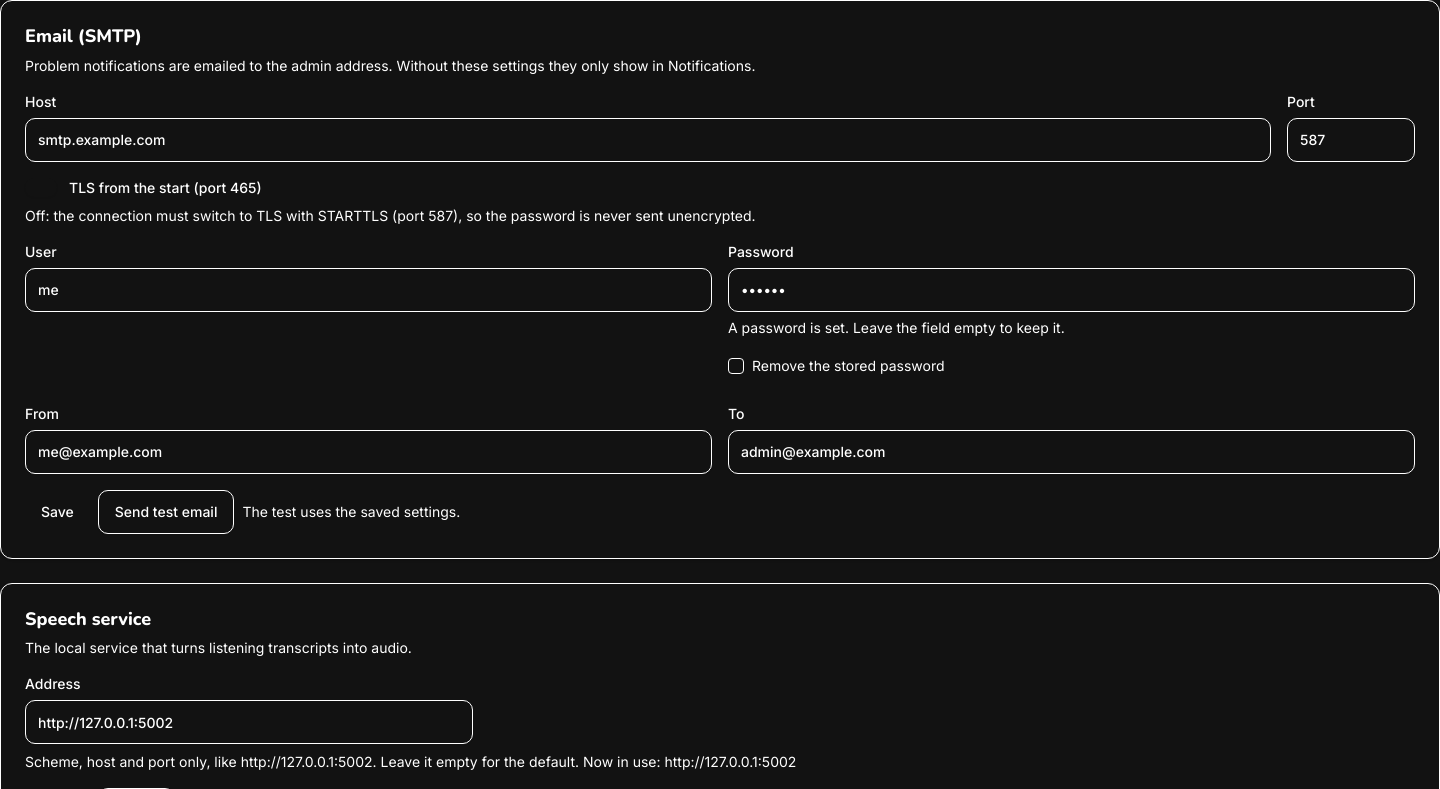
it: SystemSettingsAdmin › shows a stored password only as set, and an empty password field keeps it
Check: the password field labelled "Password" is empty, box [728,268,1415,312]
Check: the text "A password is set. Leave the field empty to keep it." is shown, box [728,318,1065,336]
In the field labelled "Host": (648, 140) [25,118,1271,162], type "mail.example.com"
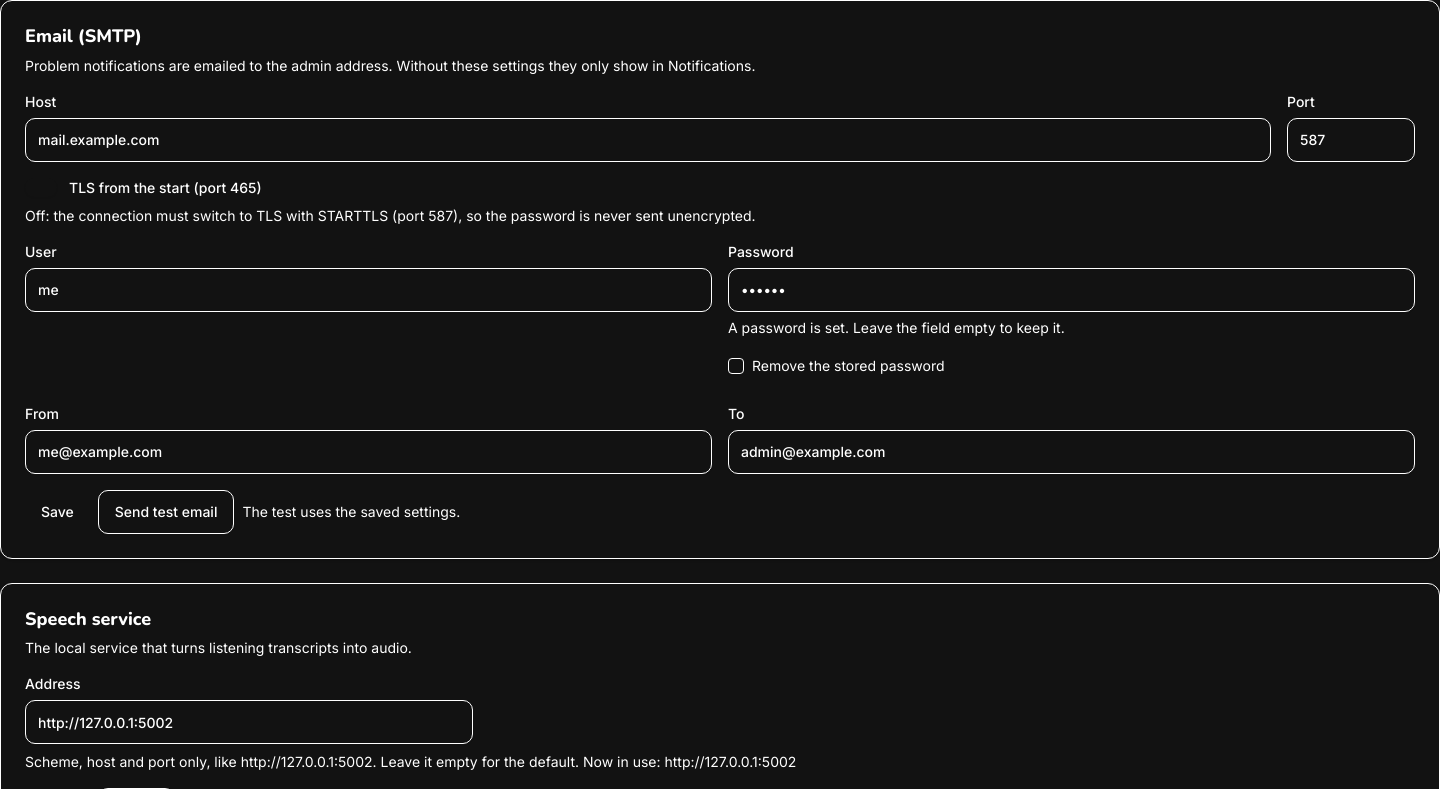
Click the button "Save" in the row of "The test uses the saved settings.": (57, 512) [25,490,90,534]
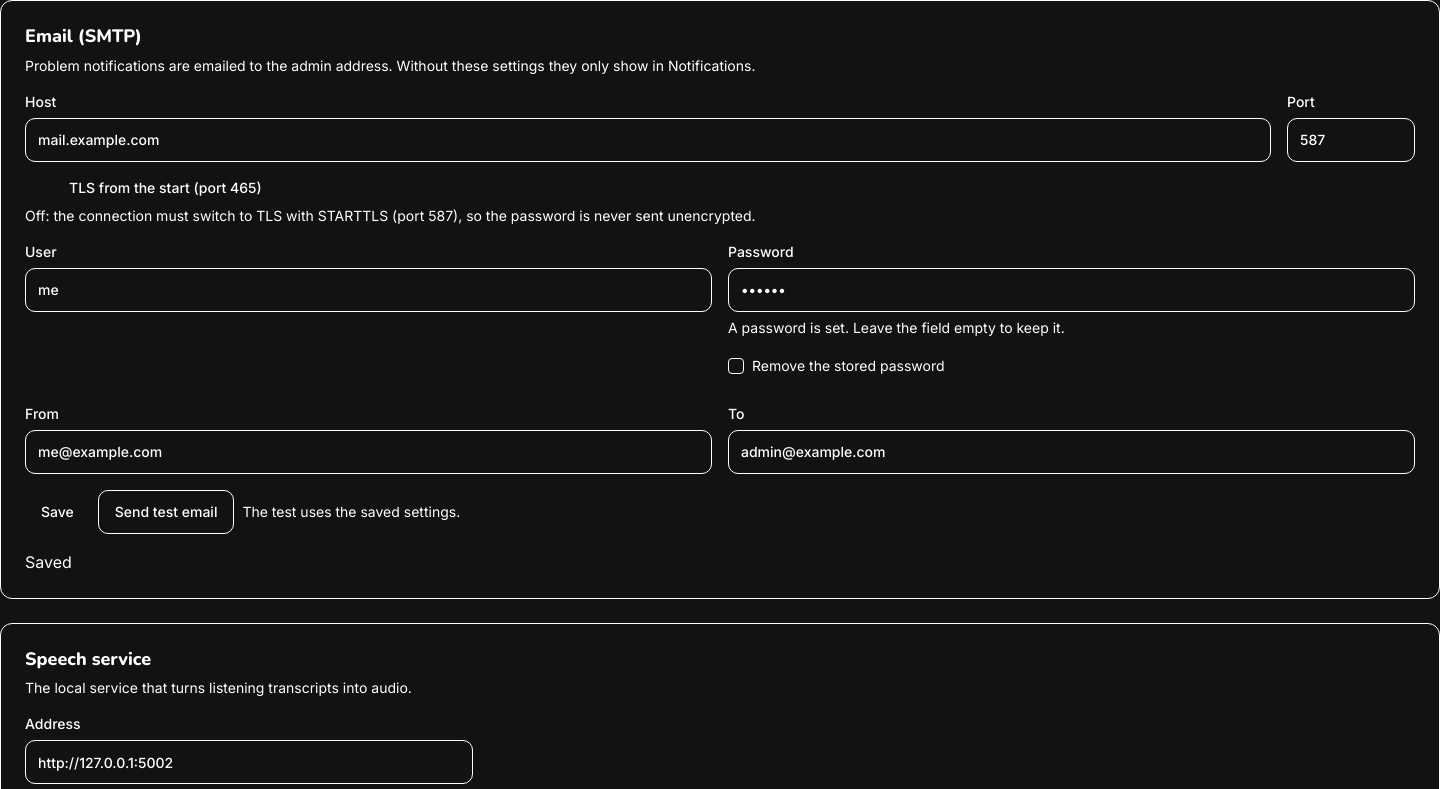
Check: the message reads "Saved", box [25,552,72,572]
